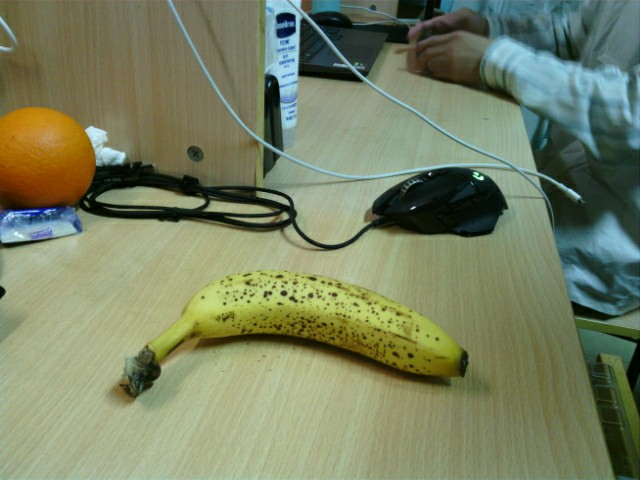normal_banana: (121, 268, 468, 403)
normal_orange: (1, 105, 98, 201)
